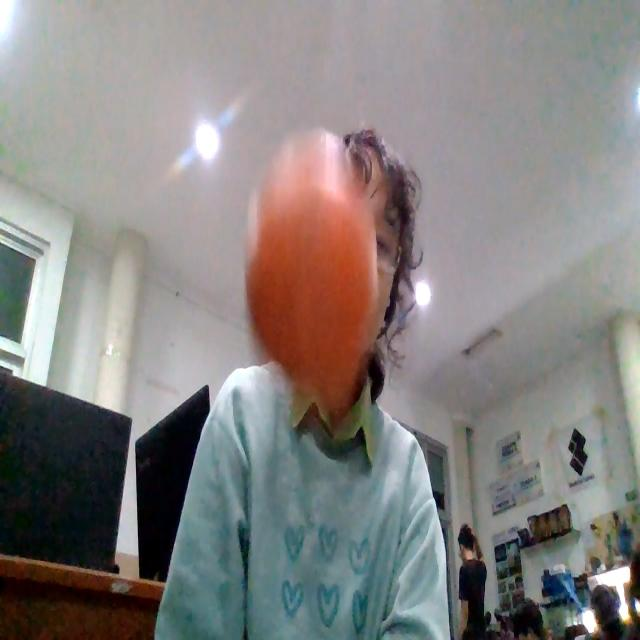ball: (244, 127, 380, 425)
